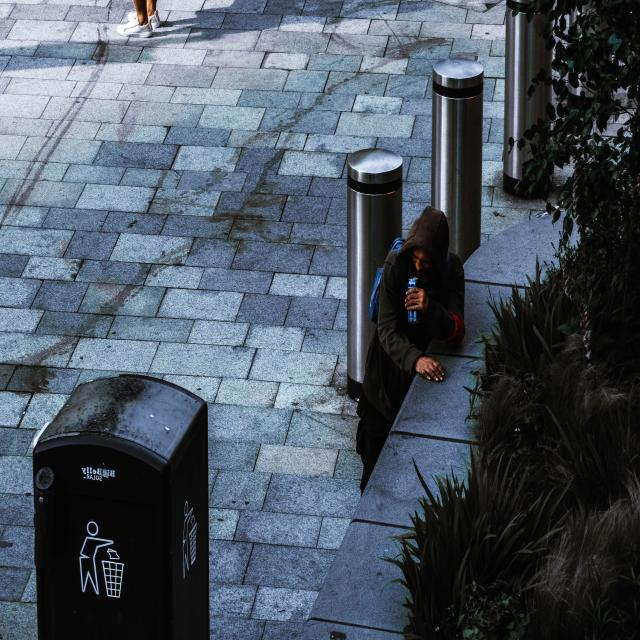adult: (358, 202, 466, 503)
